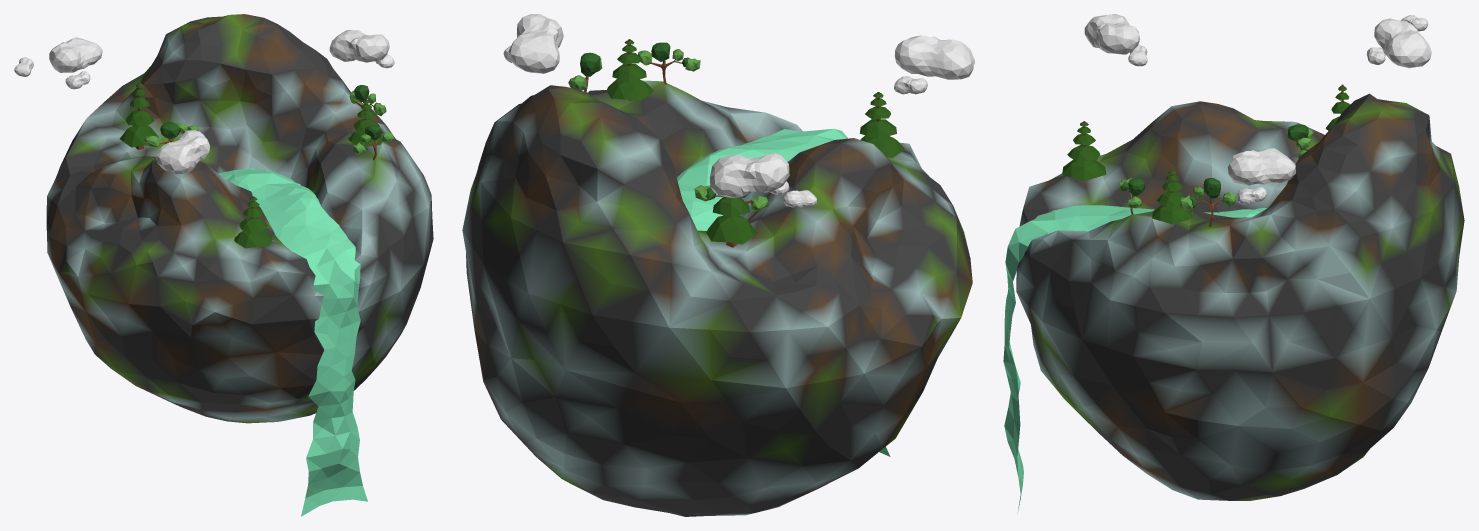
File: Island.glb
3 views of the same model, side by side, from view 1: azimuth 30°, elevation 25°; view 2: azimuth 150°, elevation 25°; view 3: azimuth 270°, elevation 25° (orthographic). The views are drawn at different scales.
Visible parts, largest first — view 1: Icokugel, Fläche, Icokugel.001, Fläche.002, Fläche.001, Fläche.003, Würfel, Würfel.002, Würfel.001; view 2: Icokugel, Icokugel.001, Fläche, Fläche.002, Fläche.003, Fläche.001, Würfel, Würfel.001; view 3: Icokugel, Icokugel.001, Fläche, Fläche.001, Fläche.003, Würfel.001, Würfel.
Part boxes in pixels (x1,y1,x2,y2): Icokugel: (46,14,433,423); Fläche: (218,168,367,516); Icokugel.001: (14,30,394,174); Fläche.002: (119,82,158,149); Fläche.001: (234,196,272,248); Fläche.003: (348,99,382,145); Würfel: (353,125,393,160); Würfel.002: (144,122,198,147); Würfel.001: (349,85,386,116); Icokugel: (462,80,972,516); Icokugel.001: (503,14,974,207); Fläche: (677,128,890,456); Fläche.002: (706,196,757,247); Fläche.003: (606,39,653,101); Fläche.001: (859,92,904,157); Würfel: (638,42,700,84); Würfel.001: (568,52,602,91); Icokugel: (1016,93,1464,500); Icokugel.001: (1084,14,1431,204); Fläche: (1003,205,1266,512); Fläche.001: (1062,121,1106,181); Fläche.003: (1152,169,1192,224); Würfel.001: (1180,178,1236,227); Würfel: (1119,178,1145,214).
Bounding box in the file's own units: 19.06 × 20.12 × 20.06.
